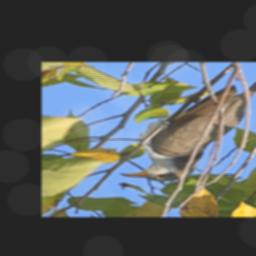Cuckoo: (87, 84, 248, 182)
